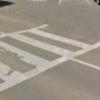crosswalks: (0, 24, 100, 94)
